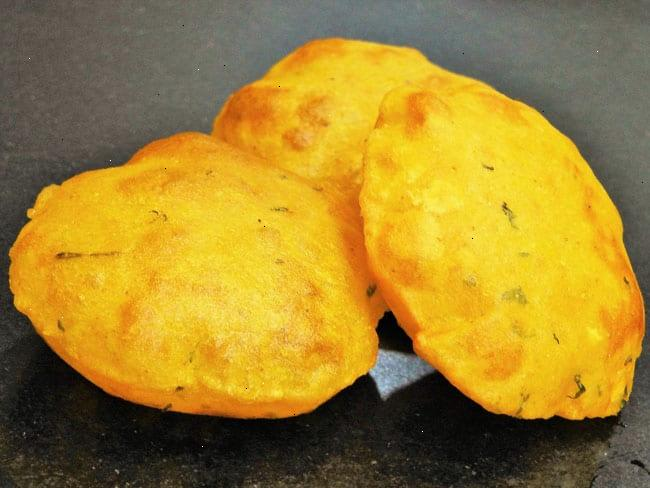puri: (10, 26, 641, 441)
